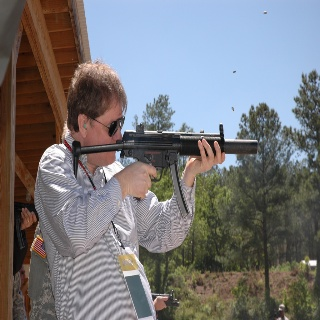rifle: (72, 123, 259, 220)
